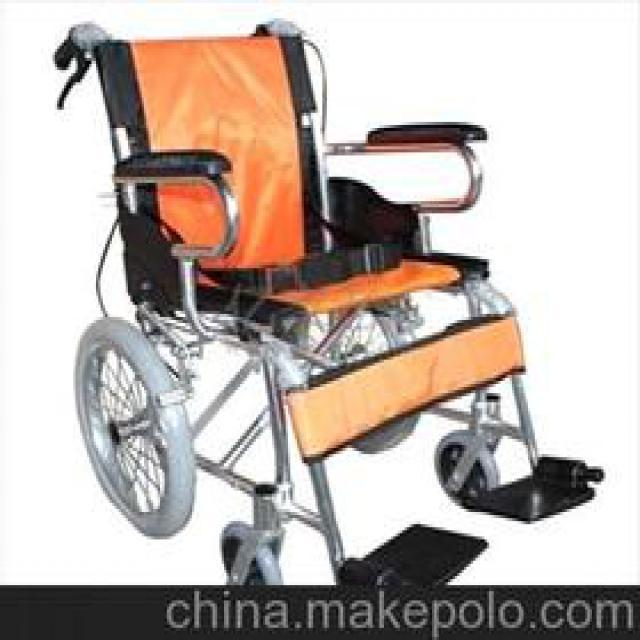wheelchair: (37, 12, 612, 582)
